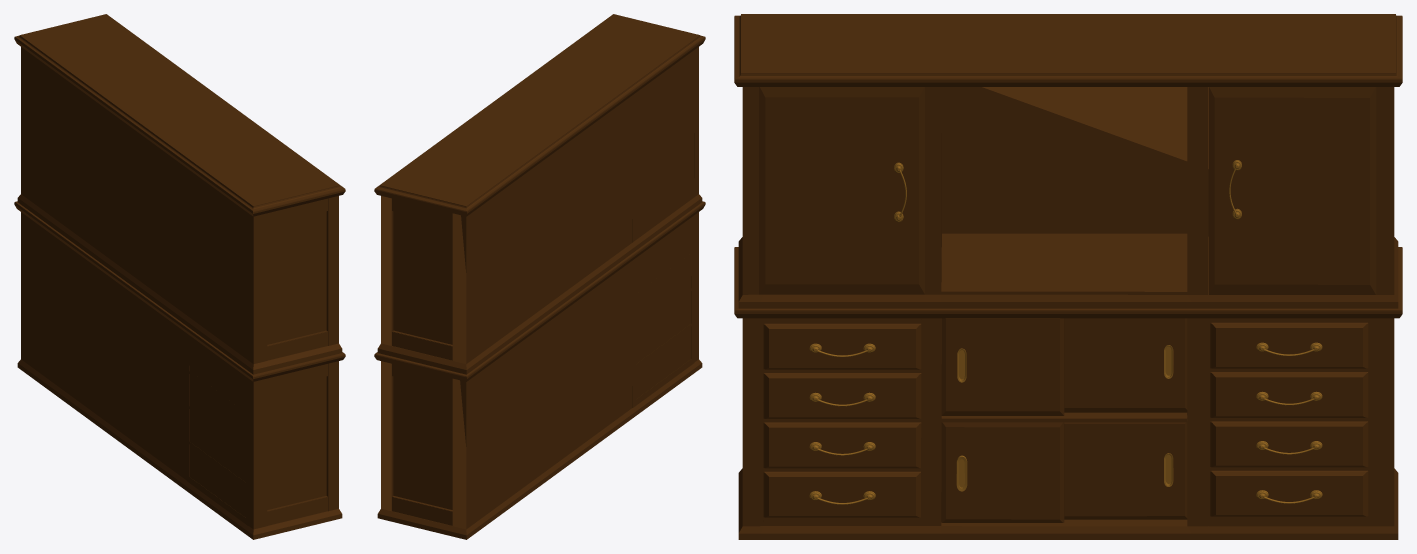
File: Bookshelf_final 1.fbx
3 renders of one model, left to right at view 1: azimuth 30°, elevation 25°; view 2: azimuth 150°, elevation 25°; view 3: azimuth 270°, elevation 25°, orthographic. The views are drawn at different scales.
Parts seen in each view (by area): view 1: Cube.022, LowerPart, Panel_LowLeft2, Panel_TopLeft2, Panel_TopLeft1, Panel_LowLeft1; view 2: Cube.022, LowerPart, Cube.028, Panel_TopRight2, Panel_TopRight1, Cube.027; view 3: Cube.022, LowerPart, Door_Right.006, Door_Left.007, Plane, Door_Left.005, Door_Right.005, Door_Left.004, Door_Right.004, Drawer_Top.014, Drawer_Top.016, Drawer_Low.016 (+6 smaller).
Boxes of the visible parts, x1=… form: Cube.022: x1=14, y1=14, x2=345, y2=374; LowerPart: x1=14, y1=201, x2=345, y2=539; Panel_LowLeft2: x1=267, y1=497, x2=327, y2=525; Panel_TopLeft2: x1=267, y1=331, x2=327, y2=360; Panel_TopLeft1: x1=267, y1=198, x2=327, y2=225; Panel_LowLeft1: x1=267, y1=364, x2=327, y2=390; Cube.022: x1=374, y1=14, x2=705, y2=374; LowerPart: x1=374, y1=201, x2=705, y2=539; Cube.028: x1=392, y1=497, x2=452, y2=525; Panel_TopRight2: x1=392, y1=331, x2=452, y2=360; Panel_TopRight1: x1=392, y1=198, x2=452, y2=225; Cube.027: x1=392, y1=364, x2=452, y2=390; Cube.022: x1=734, y1=14, x2=1402, y2=308; LowerPart: x1=734, y1=247, x2=1402, y2=539; Door_Right.006: x1=1208, y1=87, x2=1376, y2=294; Door_Left.007: x1=759, y1=87, x2=924, y2=294; Plane: x1=941, y1=233, x2=1187, y2=294; Door_Left.005: x1=941, y1=422, x2=1064, y2=522; Door_Right.005: x1=1064, y1=415, x2=1187, y2=519; Door_Left.004: x1=941, y1=318, x2=1064, y2=415; Door_Right.004: x1=1064, y1=318, x2=1187, y2=412; Drawer_Top.014: x1=763, y1=323, x2=921, y2=369; Drawer_Top.016: x1=1210, y1=322, x2=1368, y2=368; Drawer_Low.016: x1=1210, y1=470, x2=1368, y2=516.
Bounding box in the file's own units: 344 × 1163 × 1512.
